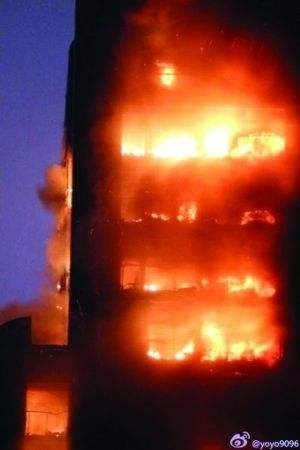fire: (116, 74, 296, 393)
